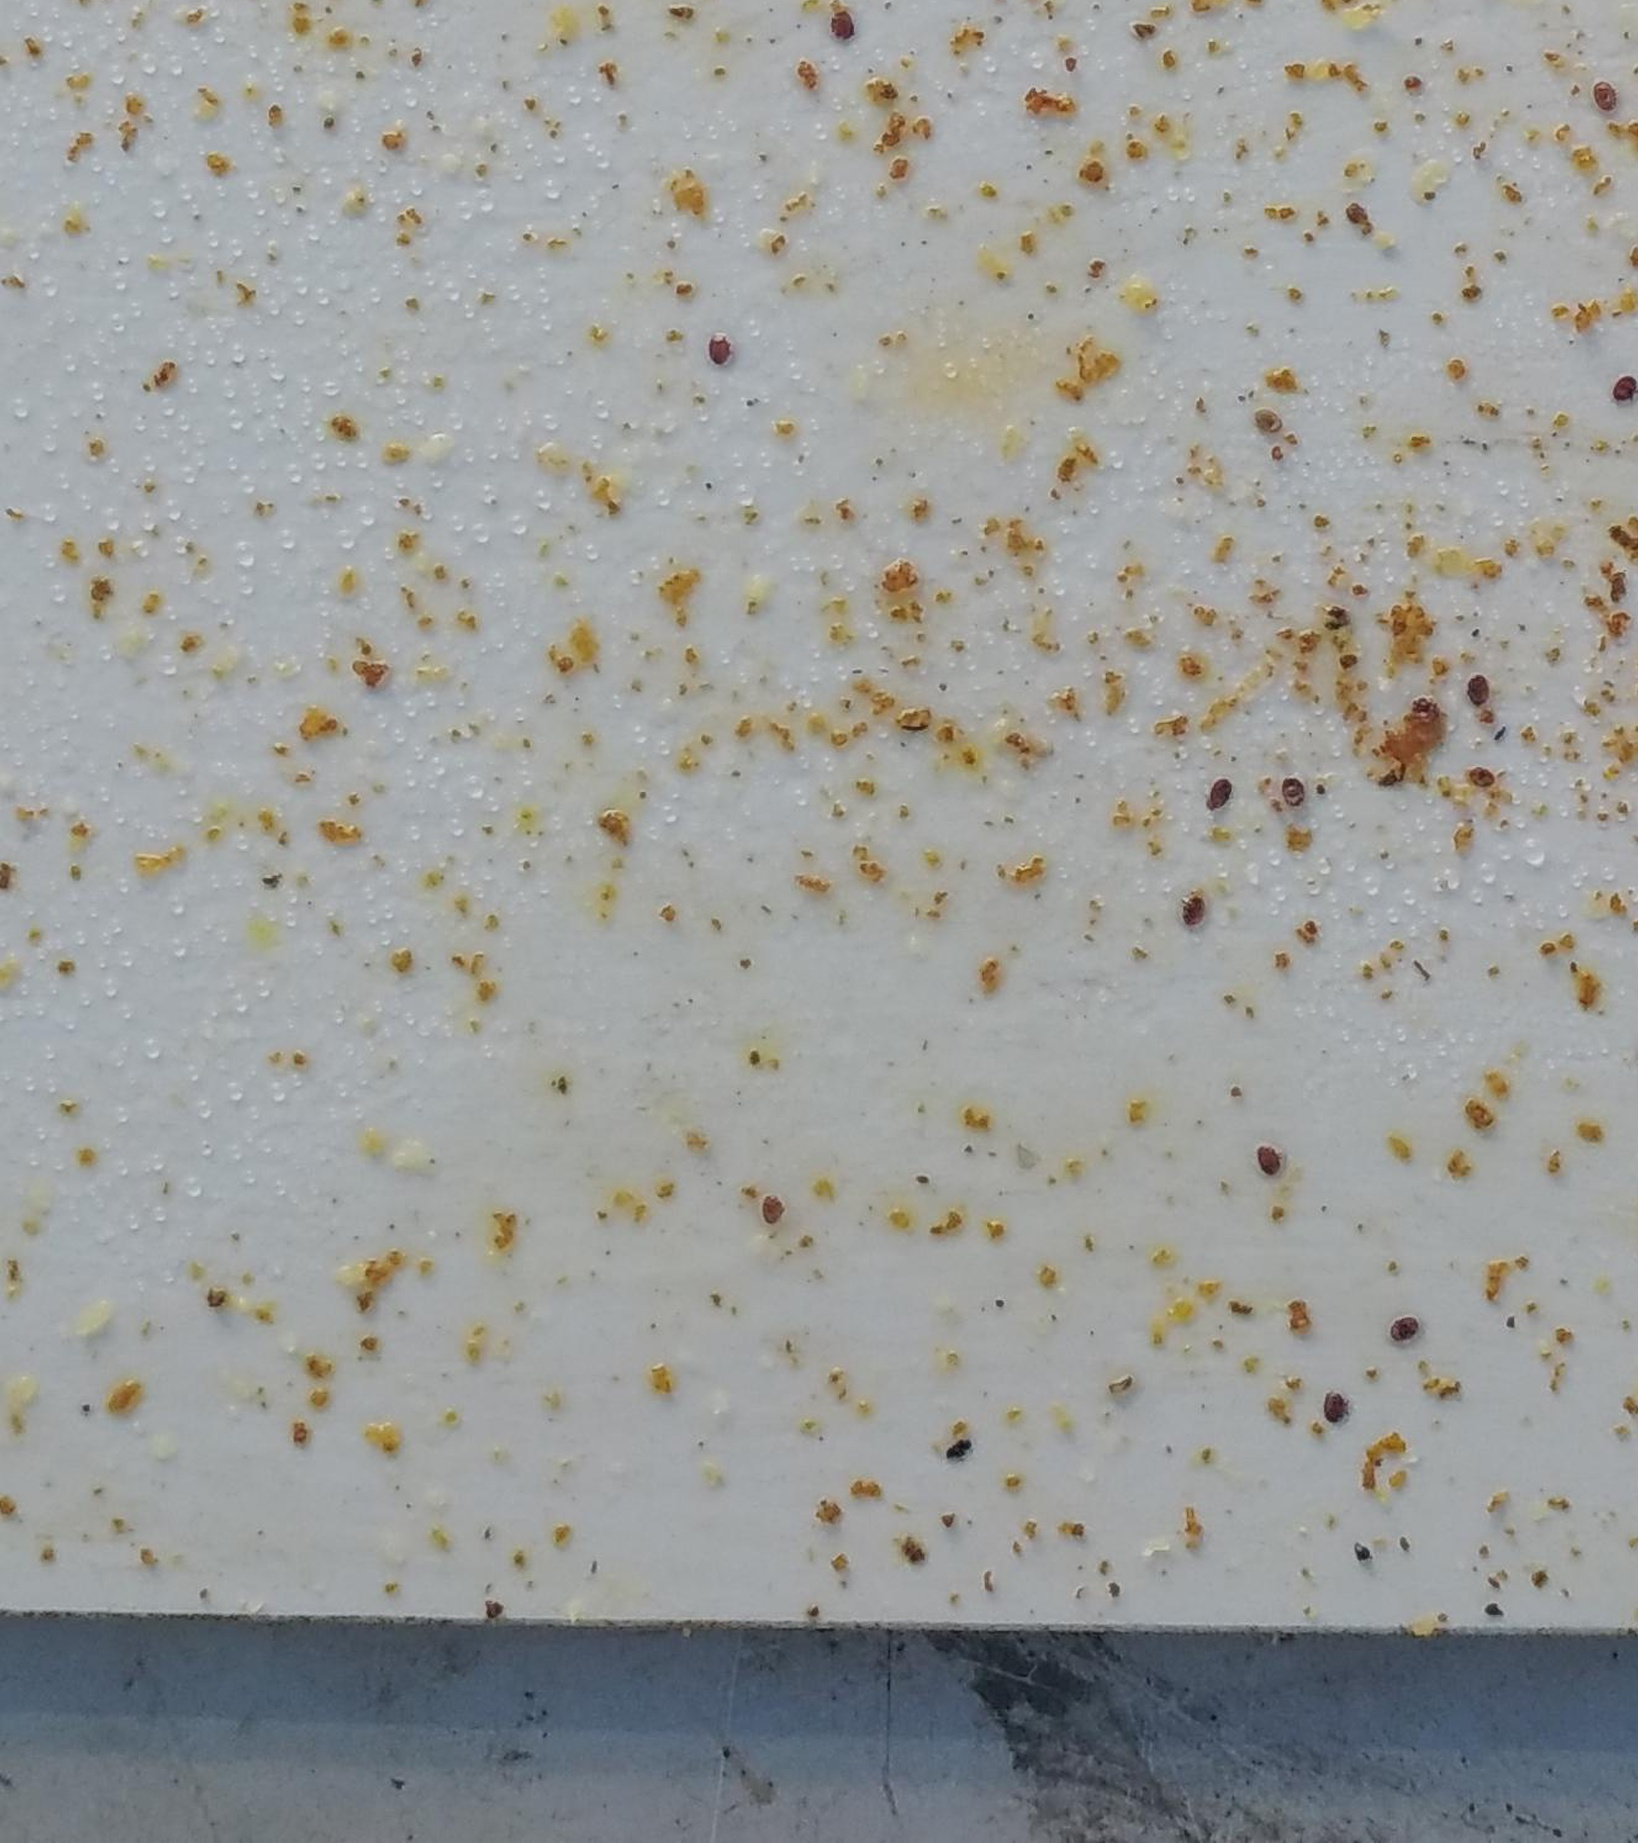Varroa: (827, 3, 863, 41), (1587, 82, 1617, 112), (1252, 403, 1282, 433), (1274, 776, 1303, 805), (1464, 672, 1493, 700), (1179, 896, 1206, 925), (1206, 782, 1233, 809), (760, 1197, 786, 1223), (1320, 1394, 1345, 1421), (1255, 1148, 1281, 1173), (707, 338, 730, 364), (1395, 1307, 1418, 1332), (1470, 757, 1493, 779)
